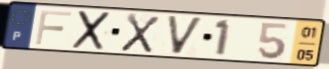1: (212, 18, 231, 58)
5: (257, 20, 290, 61)
F: (33, 9, 74, 47)
V: (164, 14, 206, 57)
X: (118, 12, 162, 55), (69, 9, 113, 52)
